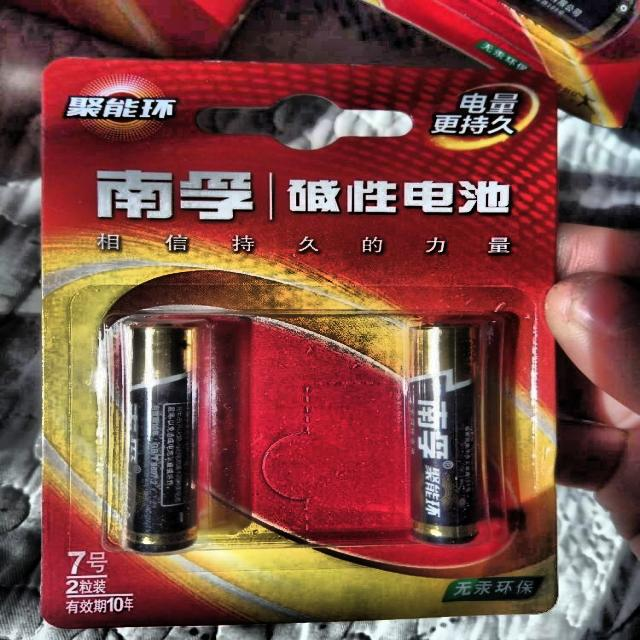Non-Valuable Waste - Batteries: (407, 324, 483, 543), (125, 322, 197, 552)
